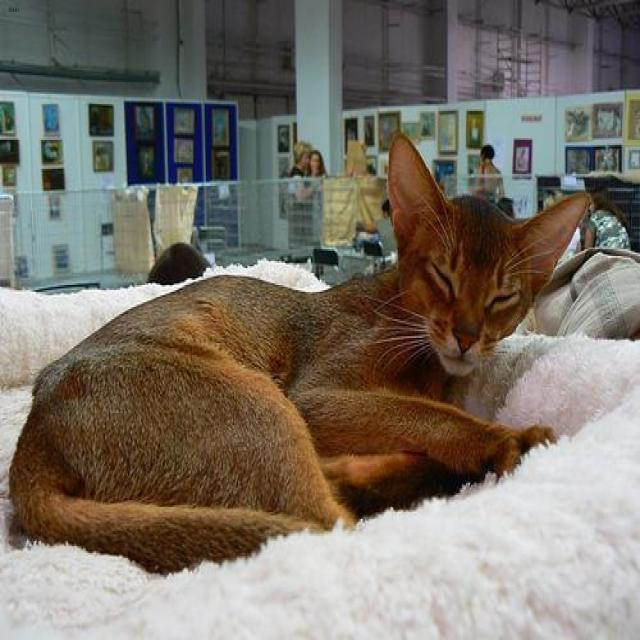cat: (12, 132, 588, 578)
